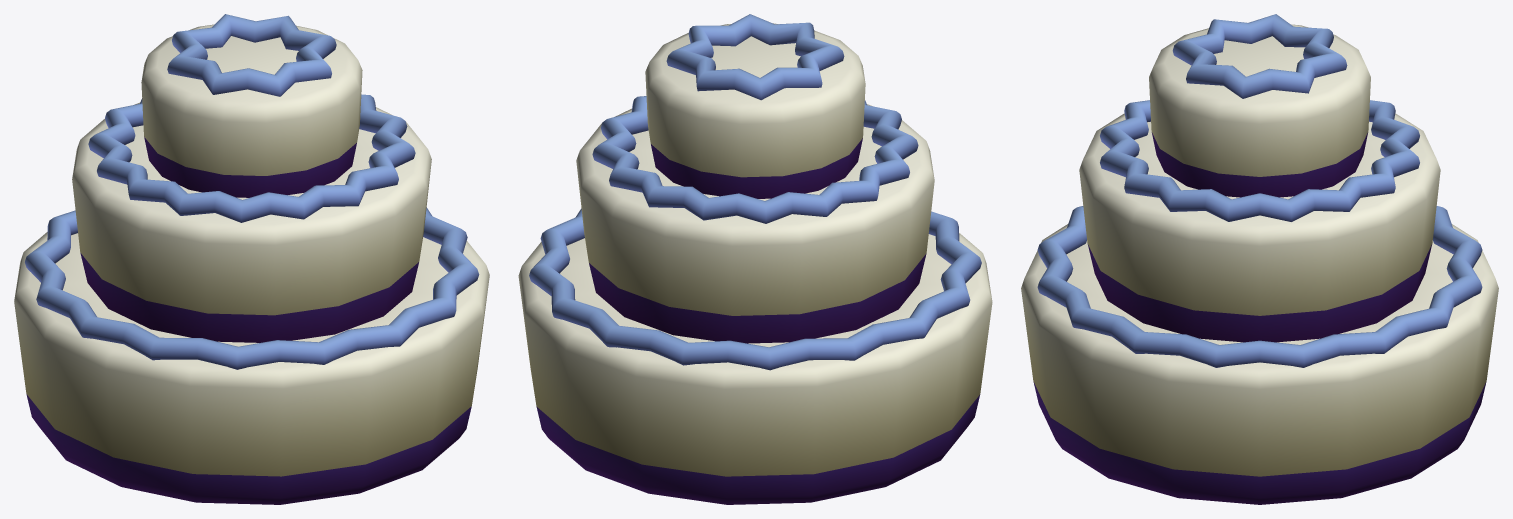
Rendered from Cake_01.glb.
3 views of the same model, side by side, from view 1: azimuth 30°, elevation 25°; view 2: azimuth 150°, elevation 25°; view 3: azimuth 270°, elevation 25° (orthographic).
Parts seen in each view (by area): view 1: Cake_01; view 2: Cake_01; view 3: Cake_01.
Part boxes in pixels (box(x1,y1,x2,y2)): Cake_01: box(14, 14, 489, 504); Cake_01: box(518, 14, 992, 504); Cake_01: box(1021, 14, 1498, 504).
Size of the model in its own units: 1.1 by 0.9421 by 1.1.
Materials: 1 (1 with a texture image).
